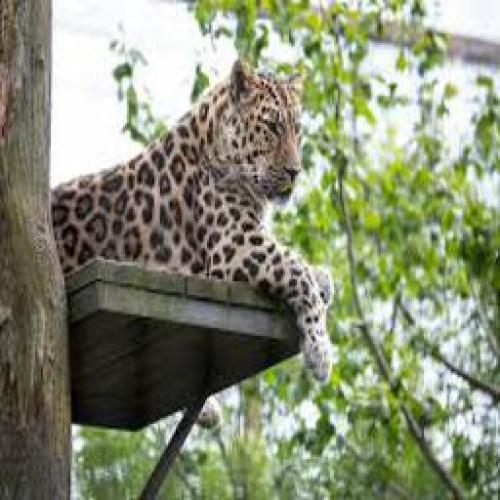amur_leopard-endangered: (54, 60, 335, 382)
